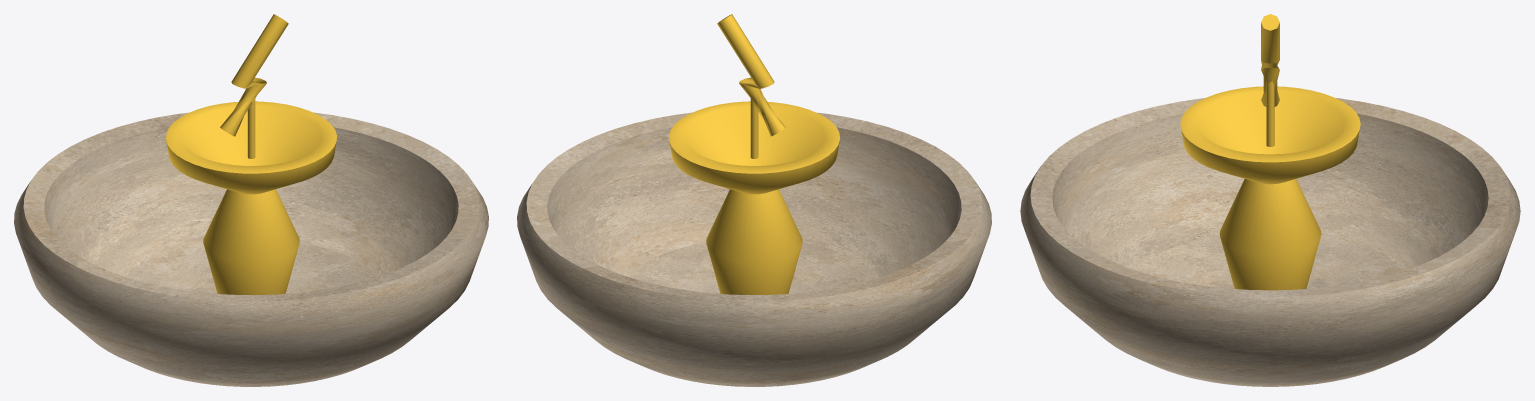
Rendered from 07_Fuente_Cuenco.obj.
3 renders of one model, left to right at view 1: azimuth 30°, elevation 25°; view 2: azimuth 150°, elevation 25°; view 3: azimuth 270°, elevation 25°, orthographic. The views are drawn at different scales.
Visible parts, largest first — view 1: Cuencos_concavos, Remate_central; view 2: Cuencos_concavos, Remate_central; view 3: Cuencos_concavos, Remate_central.
Part boxes in pixels (bbox=[...]): Cuencos_concavos: bbox=[14, 101, 488, 386]; Remate_central: bbox=[220, 14, 288, 158]; Cuencos_concavos: bbox=[517, 101, 991, 386]; Remate_central: bbox=[717, 14, 785, 158]; Cuencos_concavos: bbox=[1020, 86, 1520, 386]; Remate_central: bbox=[1261, 14, 1279, 146].
Bounding box in the file's own units: 3.44 × 2.41 × 3.44.
